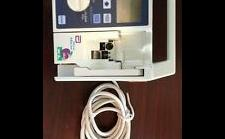plumxl1: (48, 1, 178, 81)
